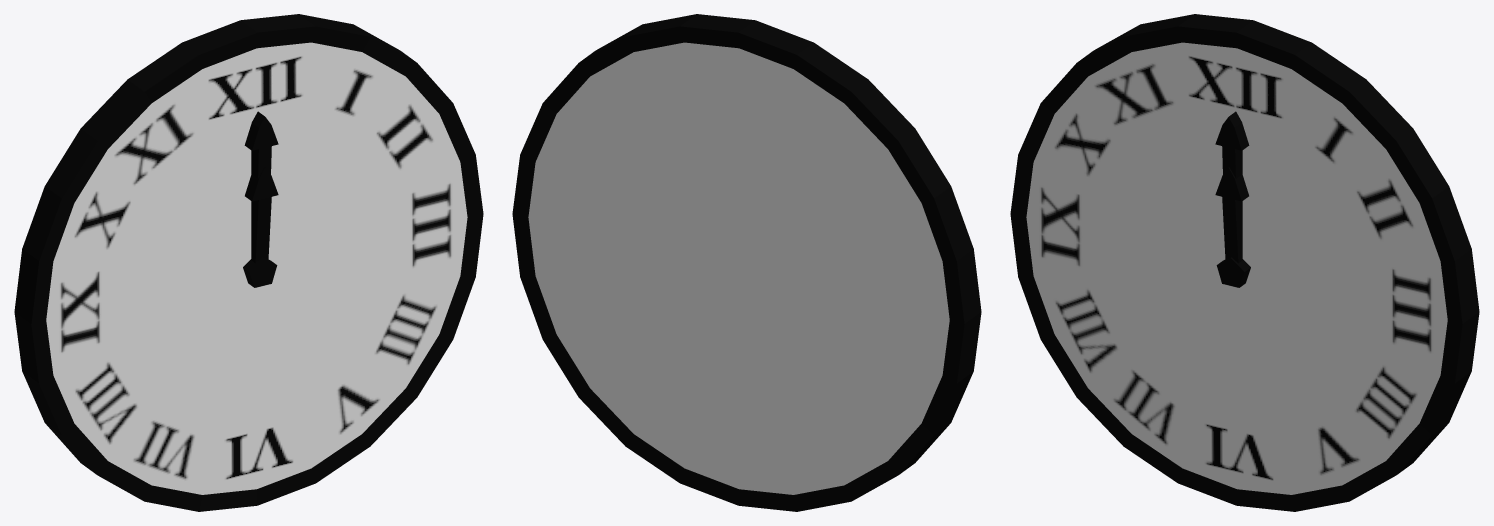
Rendered from Clock.fbx.
3 renders of one model, left to right at view 1: azimuth 30°, elevation 25°; view 2: azimuth 150°, elevation 25°; view 3: azimuth 330°, elevation 25°, orthographic.
Parts seen in each view (by area): view 1: Cylinder, ClockYolk, Cube.003, Cube, Cylinder.001; view 2: Cylinder, ClockYolk; view 3: Cylinder, ClockYolk, Cube, Cube.003, Cylinder.001.
Boxes of the visible parts, bbox=[...] form: Cylinder: bbox=[46, 42, 467, 494]; ClockYolk: bbox=[14, 14, 483, 511]; Cube.003: bbox=[245, 167, 278, 263]; Cube: bbox=[244, 111, 278, 178]; Cylinder.001: bbox=[243, 257, 277, 287]; Cylinder: bbox=[528, 42, 949, 494]; ClockYolk: bbox=[512, 14, 981, 511]; Cylinder: bbox=[1026, 42, 1447, 494]; ClockYolk: bbox=[1010, 14, 1479, 511]; Cube: bbox=[1215, 111, 1249, 263]; Cube.003: bbox=[1215, 167, 1248, 262]; Cylinder.001: bbox=[1216, 257, 1250, 287].
Bounding box in the file's own units: 215 × 215 × 20.46.
